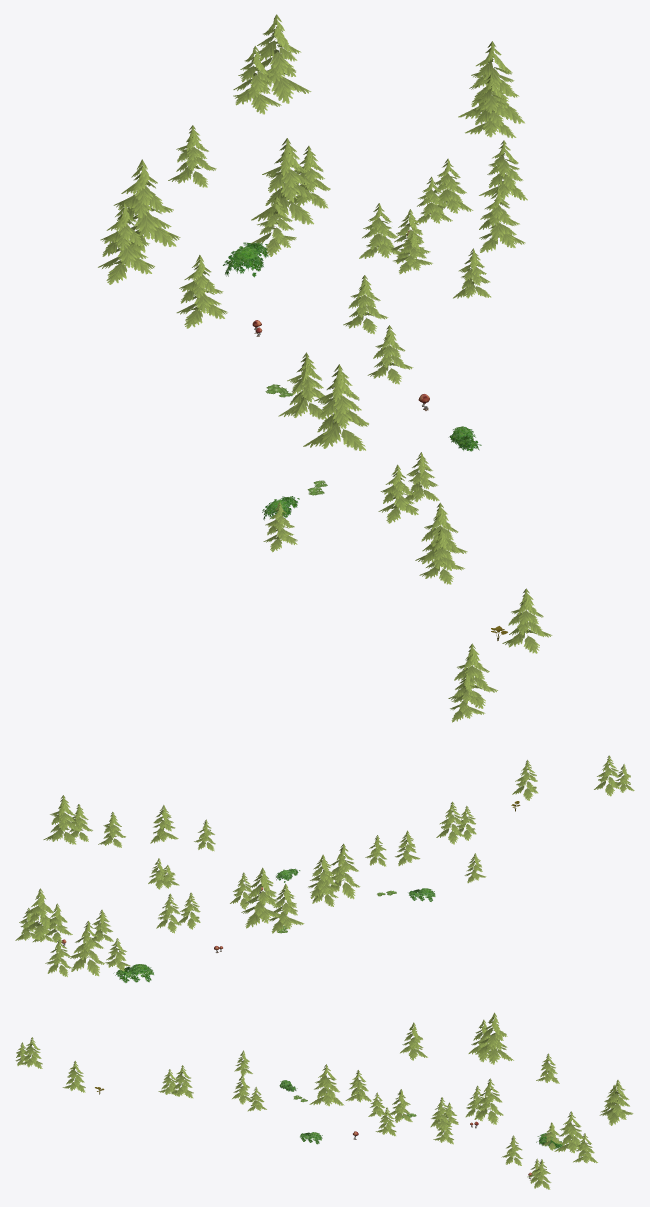
The model's file is zhibei21_1.fbx.
The picture shows the model from 3 angles, top to bottom: view 1: azimuth 30°, elevation 25°; view 2: azimuth 150°, elevation 25°; view 3: azimuth 270°, elevation 25°; orthographic projection. The views are drawn at different scales.
Parts seen in each view (by area): view 1: zhibei21_1; view 2: zhibei21_1; view 3: zhibei21_1.
Part boxes in pixels (<box>): zhibei21_1: <box>98,14,552,722</box>; zhibei21_1: <box>15,755,634,982</box>; zhibei21_1: <box>15,1012,633,1189</box>.
Size of the model in its own units: 4953 by 1996 by 9805.
